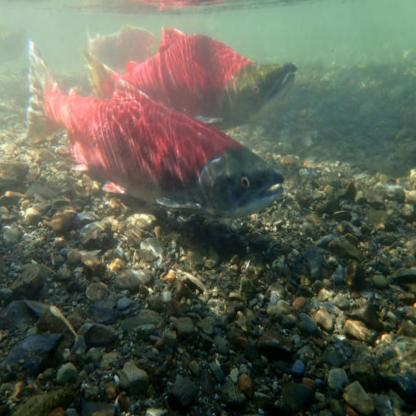sockeye: (25, 68, 282, 220), (135, 31, 297, 136)
sockeye-group: (28, 26, 292, 222)
